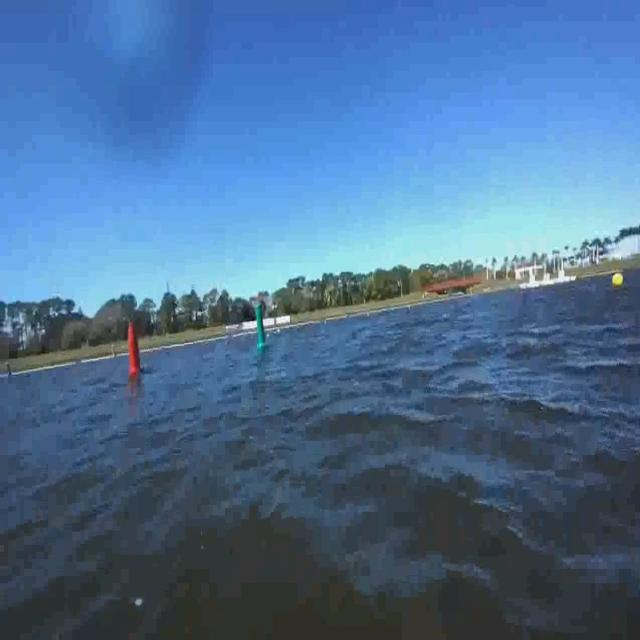green-column-buoy: (254, 302, 268, 350)
red-column-buoy: (128, 322, 144, 376)
yellow-buoy: (613, 272, 626, 290)
